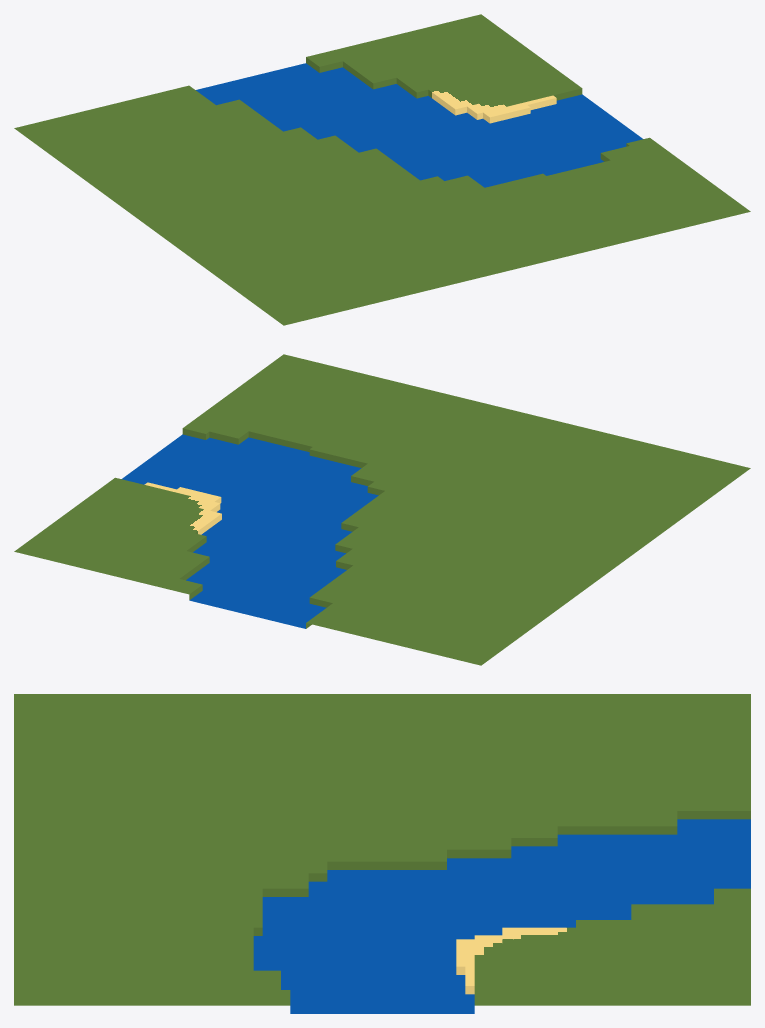
File: LLLLR96(2).glb
3 views of the same model, one above another, from view 1: azimuth 30°, elevation 25°; view 2: azimuth 150°, elevation 25°; view 3: azimuth 270°, elevation 25° (orthographic). The views are drawn at different scales.
Visible parts, largest first — view 1: model_0.037; view 2: model_0.037; view 3: model_0.037.
Part boxes in pixels (x1,y1,x2,y2): model_0.037: [14, 14, 750, 325]; model_0.037: [14, 354, 750, 665]; model_0.037: [14, 694, 750, 1013].
Size of the model in its own units: 80 by 1 by 80.
1 material, 1 textured.
